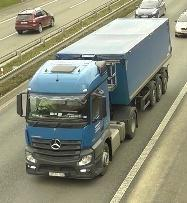Car: (15, 7, 55, 35), (135, 0, 165, 19), (175, 11, 187, 38)
Truck: (17, 18, 172, 182)
